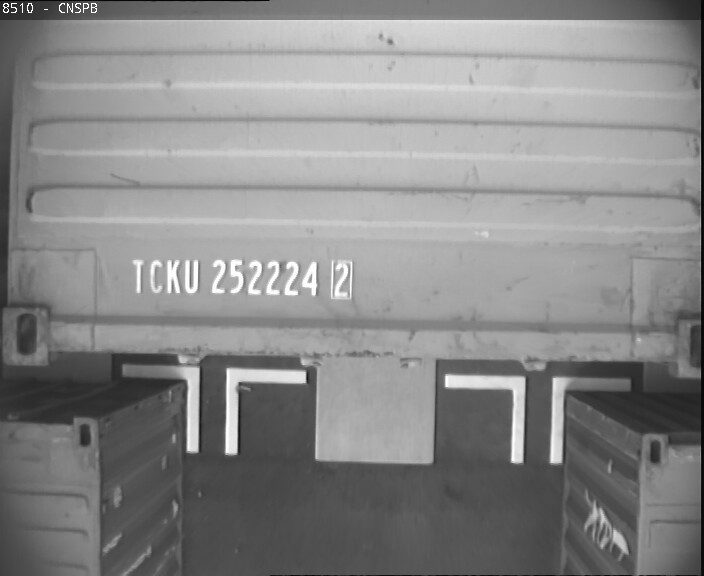groundmarker_1: (119, 363, 307, 454), (445, 375, 631, 462)
